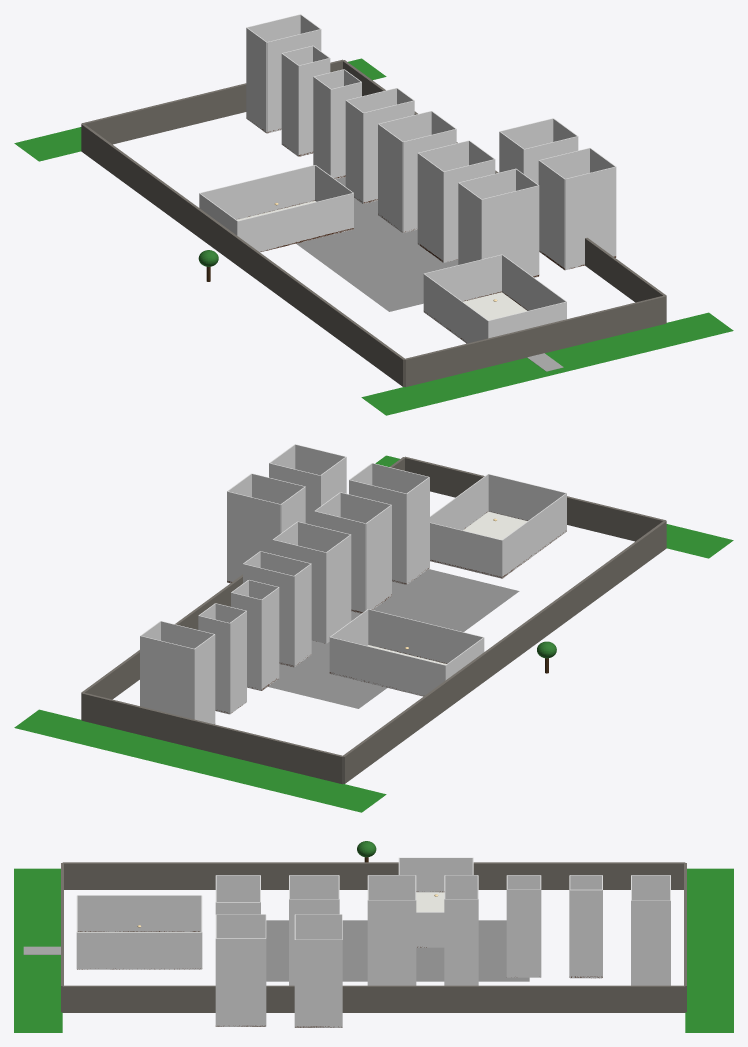
File: enhanced_boq_a2bb80d7-d67a-42e4-9317-97e26e05c544.obj
3 views of the same model, one above another, from view 1: azimuth 30°, elevation 25°; view 2: azimuth 150°, elevation 25°; view 3: azimuth 270°, elevation 25° (orthographic). The views are drawn at different scales.
Visible parts, largest first — view 1: ExteriorWall_West, FrontYard, Foundation, ExteriorWall_South, ExteriorWall_North, SouthWall_Utility_Room_1, SouthWall_Bedroom_1, SouthWall_Living_Room_1, NorthWall_Living_Room_1, ExteriorWall_East, WestWall_Bedroom_2, WestWall_Utility_Room_1 (+28 smaller); view 2: ExteriorWall_West, Foundation, BackYard, ExteriorWall_North, NorthWall_Living_Room_1, ExteriorWall_South, NorthWall_Dining_Room_1, SouthWall_Living_Room_1, NorthWall_Store_Room_1, NorthWall_Grand_Entrance, WestWall_Grand_Entrance, WestWall_Bedroom_2 (+29 smaller); view 3: ExteriorWall_East, ExteriorWall_West, BackYard, FrontYard, Foundation, EastWall_Grand_Entrance, WestWall_Grand_Entrance, EastWall_Utility_Room_1, EastWall_Store_Room_1, EastWall_Bedroom_3, EastWall_Dining_Room_1, EastWall_Bathroom_1 (+19 smaller).
Boxes of the visible parts, x1=… form: ExteriorWall_West: x1=81, y1=124, x2=404, y2=386; FrontYard: x1=361, y1=312, x2=733, y2=415; Foundation: x1=296, y1=177, x2=458, y2=311; ExteriorWall_South: x1=404, y1=295, x2=666, y2=387; ExteriorWall_North: x1=81, y1=59, x2=343, y2=144; SouthWall_Utility_Room_1: x1=565, y1=166, x2=615, y2=270; SouthWall_Bedroom_1: x1=481, y1=185, x2=538, y2=277; SouthWall_Living_Room_1: x1=238, y1=193, x2=353, y2=252; NorthWall_Living_Room_1: x1=199, y1=165, x2=314, y2=219; ExteriorWall_East: x1=342, y1=60, x2=666, y2=322; WestWall_Bedroom_2: x1=417, y1=153, x2=443, y2=262; WestWall_Utility_Room_1: x1=538, y1=160, x2=564, y2=269; ExteriorWall_West: x1=343, y1=521, x2=666, y2=783; Foundation: x1=268, y1=569, x2=519, y2=708; BackYard: x1=14, y1=709, x2=386, y2=812; ExteriorWall_North: x1=81, y1=692, x2=343, y2=784; NorthWall_Living_Room_1: x1=329, y1=637, x2=445, y2=696; ExteriorWall_South: x1=404, y1=456, x2=666, y2=541; NorthWall_Dining_Room_1: x1=140, y1=636, x2=194, y2=719; SouthWall_Living_Room_1: x1=368, y1=609, x2=483, y2=663; NorthWall_Store_Room_1: x1=227, y1=491, x2=280, y2=583; NorthWall_Grand_Entrance: x1=430, y1=522, x2=502, y2=578; WestWall_Grand_Entrance: x1=502, y1=493, x2=566, y2=578; WestWall_Bedroom_2: x1=366, y1=505, x2=391, y2=609; ExteriorWall_East: x1=62, y1=985, x2=685, y2=1012; ExteriorWall_West: x1=62, y1=862, x2=685, y2=889; BackYard: x1=685, y1=868, x2=733, y2=1032; FrontYard: x1=14, y1=868, x2=62, y2=1032; Foundation: x1=266, y1=920, x2=529, y2=981; EastWall_Grand_Entrance: x1=77, y1=932, x2=201, y2=969; WestWall_Grand_Entrance: x1=77, y1=895, x2=201, y2=931; EastWall_Utility_Room_1: x1=216, y1=938, x2=265, y2=1026; EastWall_Store_Room_1: x1=295, y1=939, x2=342, y2=1027; EastWall_Bedroom_3: x1=368, y1=900, x2=415, y2=985; EastWall_Dining_Room_1: x1=631, y1=900, x2=670, y2=985; EastWall_Bathroom_1: x1=507, y1=889, x2=540, y2=977.
Bounding box in the file's own units: 40.45 × 10 × 74.16.
